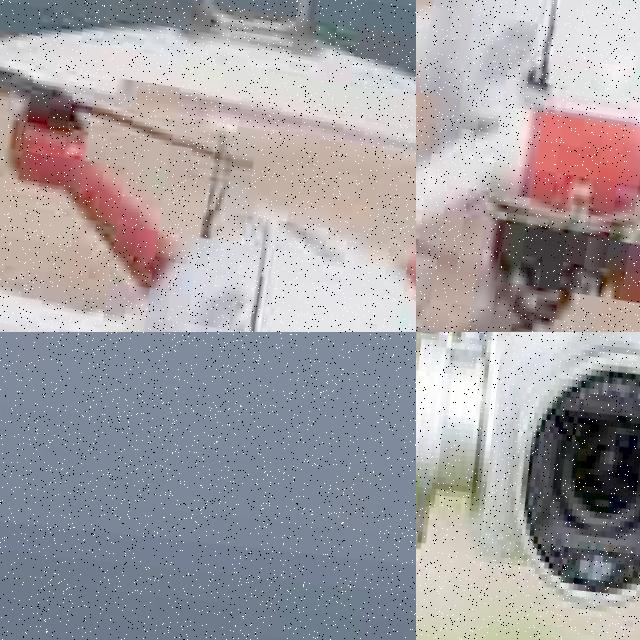drone: (0, 0, 416, 332), (416, 0, 640, 332)
